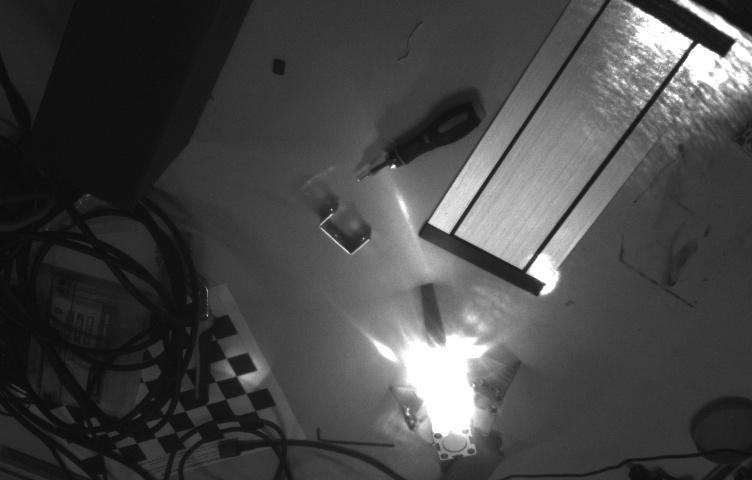Object robotic gripper finger assembly - Material metal - Pdfname Yy6dySnH33wN: (406, 362, 488, 429)
